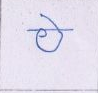e_matra: (40, 13, 60, 28)
